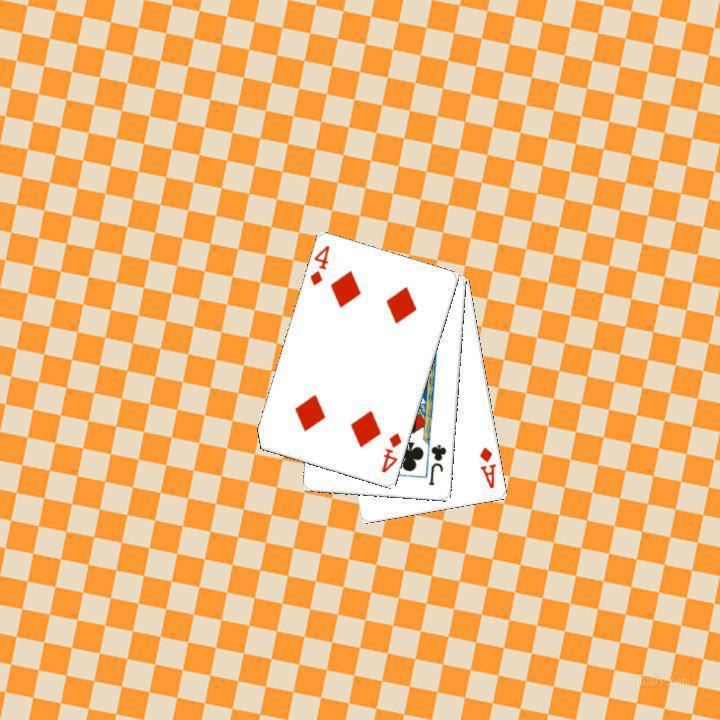4: (305, 241, 332, 288), (377, 429, 404, 475)
A: (476, 443, 498, 491)
J: (425, 441, 449, 488)
